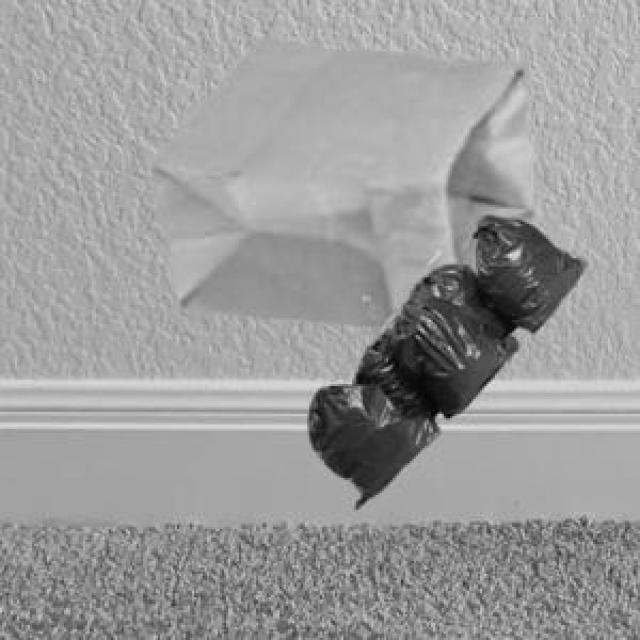miscellaneous trash: (305, 211, 582, 506)
paper: (147, 34, 529, 322)
